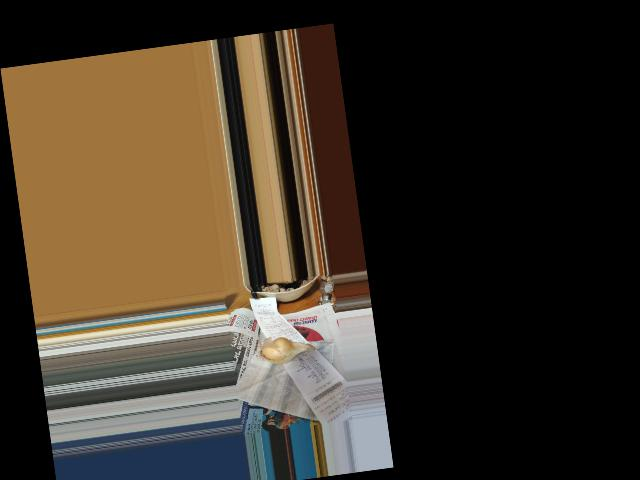onion: (261, 336, 303, 364)
